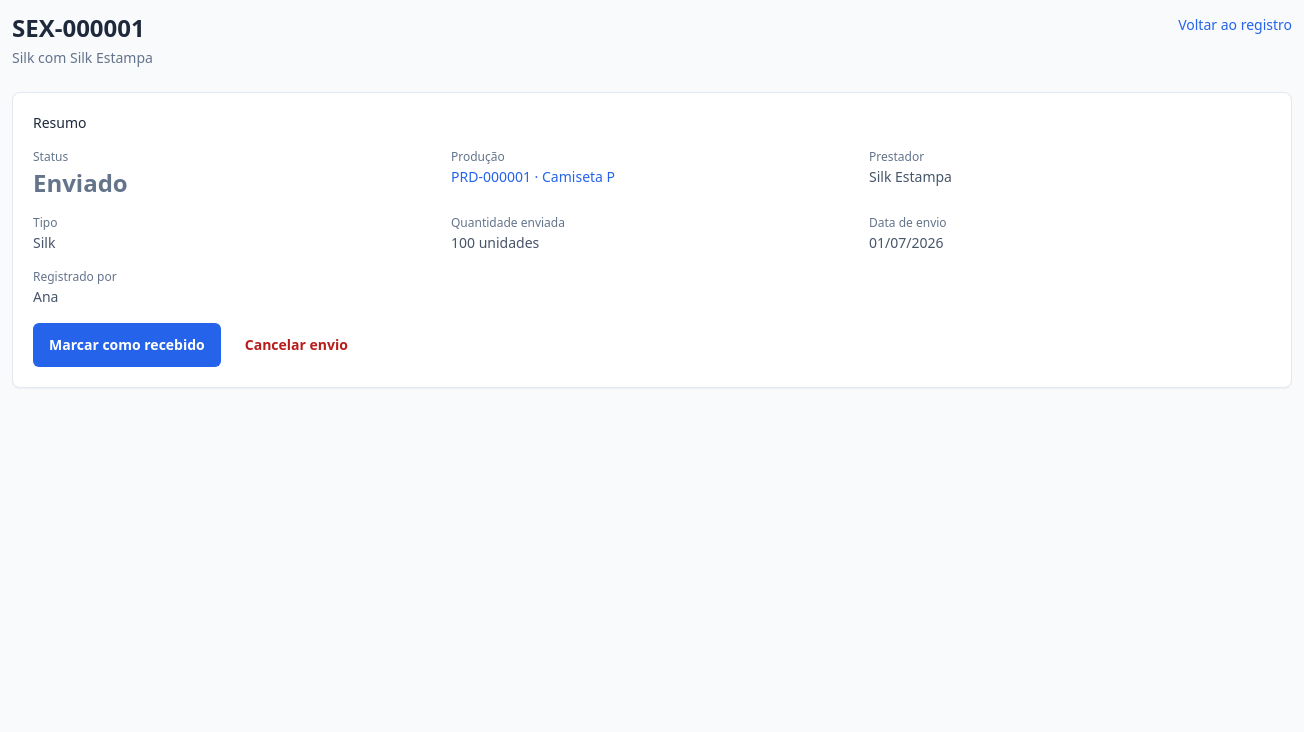
it: ServicoExternoDetalhe — ações de status › bloqueia o envio quando a quantidade recebida excede a enviada
The image size is (1304, 732).
Click the button "Marcar como recebido": (127, 345) [33,323,221,367]
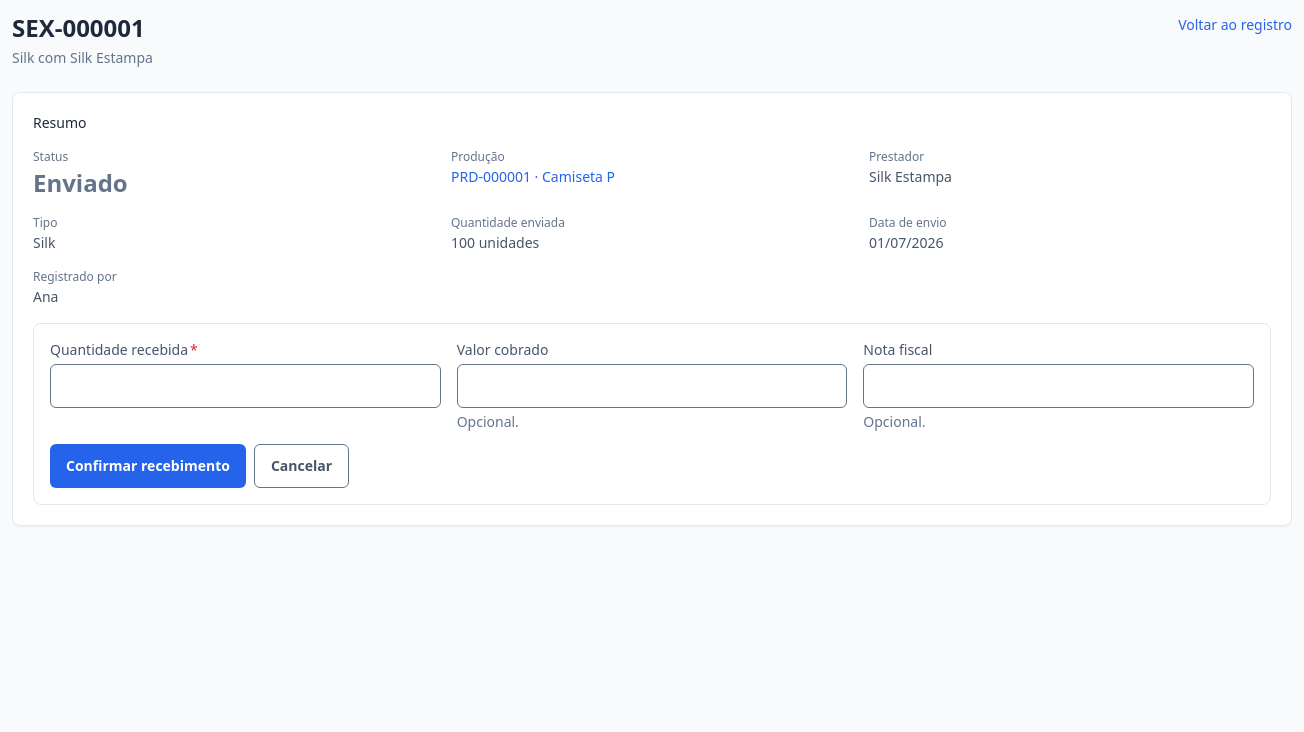
In the number field labelled "Quantidade recebida*": (245, 386) [50,364,441,408], type "150"
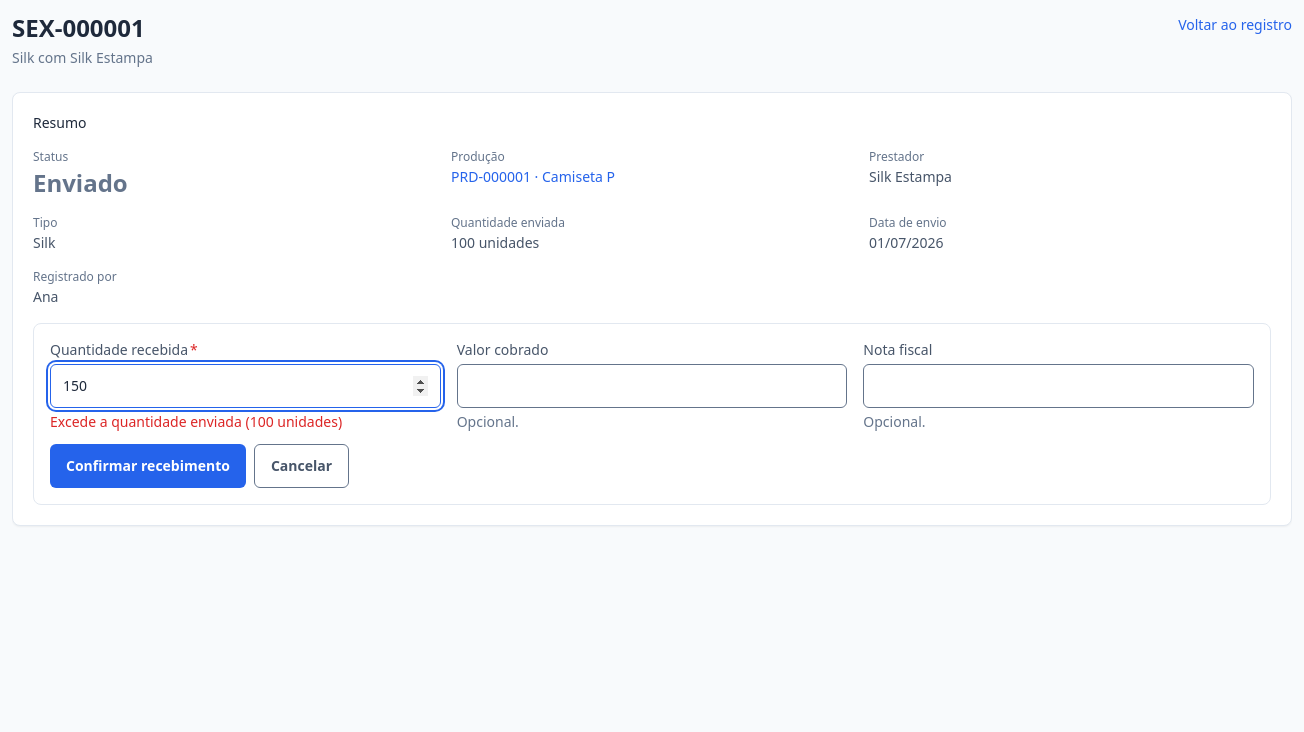
Click the button "Confirmar recebimento": (148, 466) [50,444,246,488]
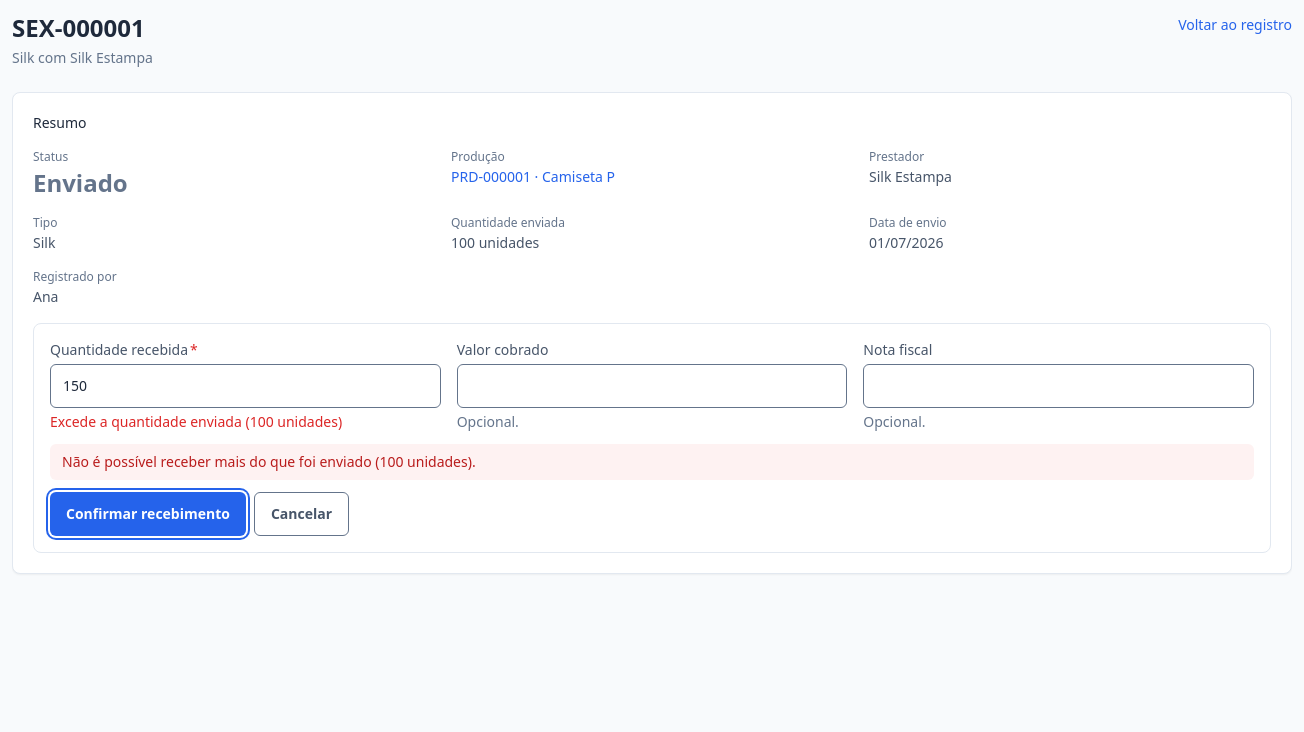
Now the text "Não é possível receber mais do que foi enviado (100 unidades)." is shown, box [50,444,1254,480]
